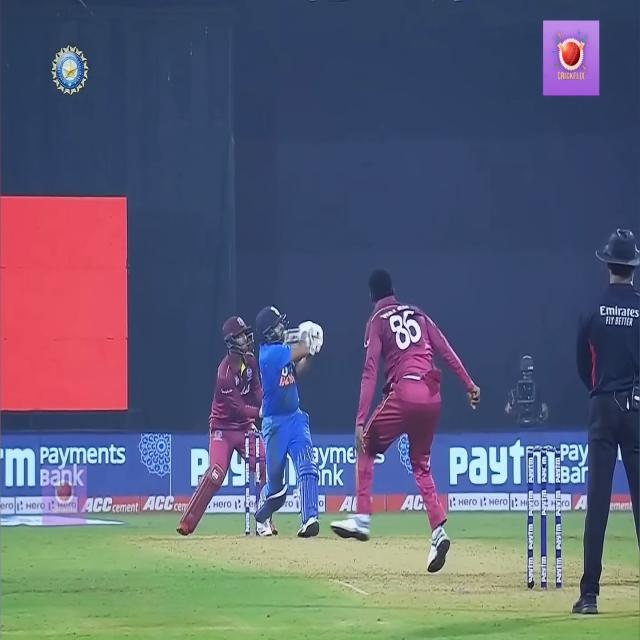partially_visible: (444, 437, 566, 496)
